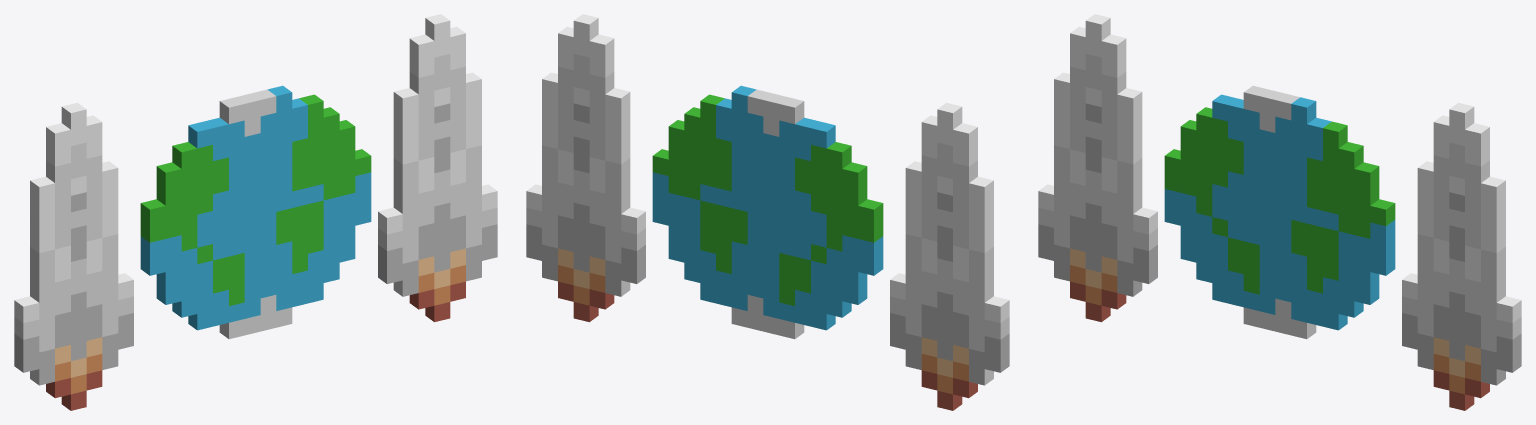
The model's file is Shelter 1.fbx.
3 views of the same model, side by side, from view 1: azimuth 30°, elevation 25°; view 2: azimuth 150°, elevation 25°; view 3: azimuth 330°, elevation 25° (orthographic).
Visible parts, largest first — view 1: Shelter 1; view 2: Shelter 1; view 3: Shelter 1.
Part boxes in pixels (x1=…): Shelter 1: x1=14, y1=14, x2=497, y2=410; Shelter 1: x1=526, y1=14, x2=1009, y2=410; Shelter 1: x1=1038, y1=14, x2=1521, y2=410.
Bounding box in the file's own units: 30 × 18 × 1.
